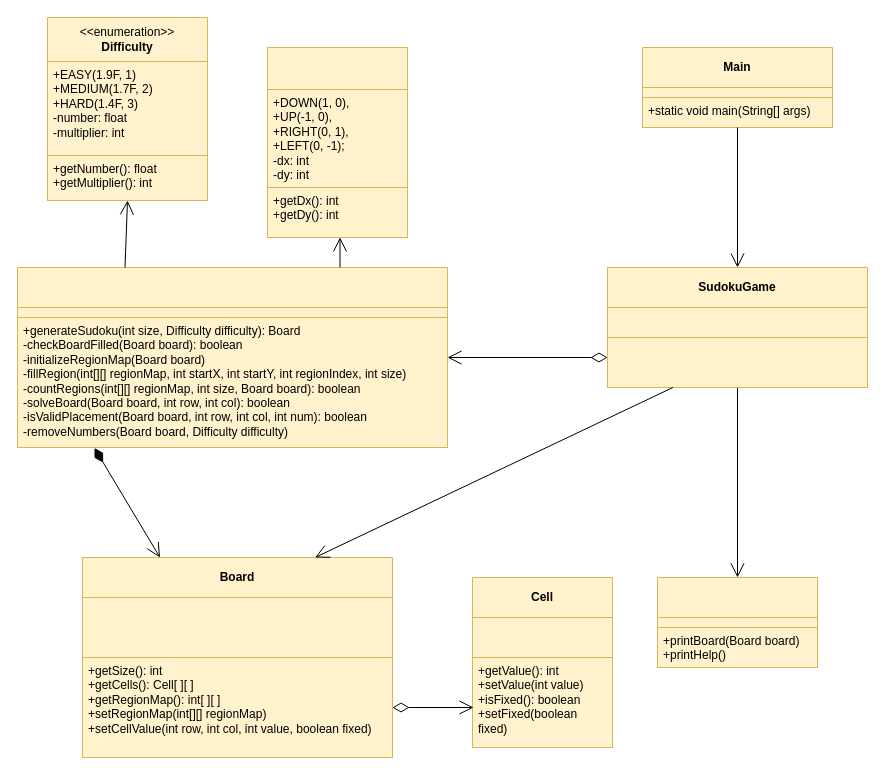
Image size: 885x778. Some labels were removed from this diagram. The box of each missing label's shape, as (x1, y1, x2, y2) in pixels:
+startGame(): boolean +isValidSudokuSolution(Board board): boolean: (606, 336, 868, 388)
-scanner: Scanner: (606, 306, 868, 338)
-size: int -cells: Cell[ ][ ] -regionMap: int[ ][ ]: (82, 596, 392, 658)
-value: int -fixed: boolean: (472, 616, 612, 658)
<<enumeration>> Direction: (266, 46, 408, 238)
ConsoleUI: (656, 576, 818, 668)
SudokuGenerator: (16, 266, 448, 448)
